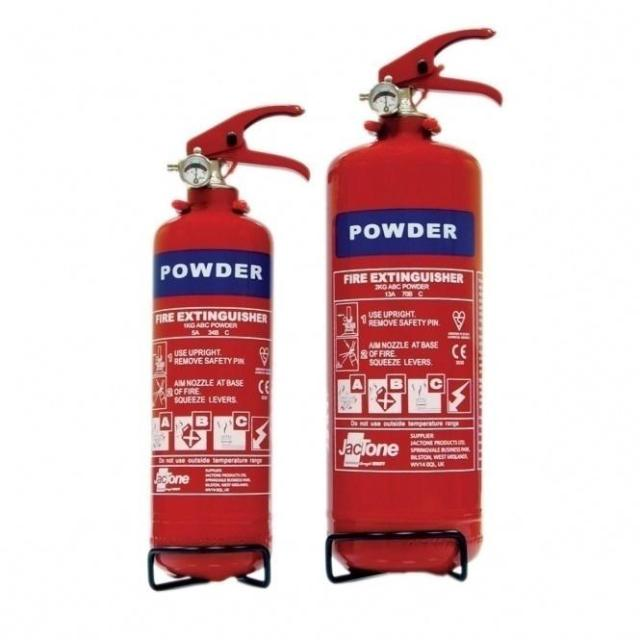fire_extinguisher: (315, 23, 507, 578), (140, 98, 314, 596)
